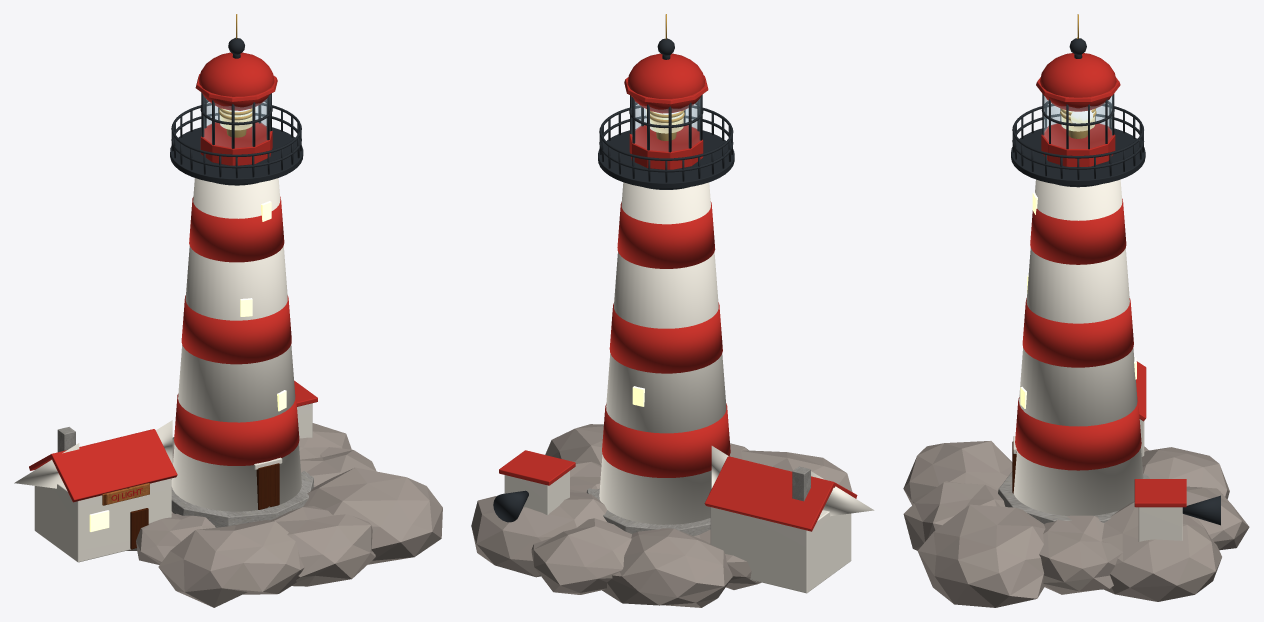
The model's file is lighthouse.glb.
The picture shows the model from 3 angles, left to right: view 1: azimuth 30°, elevation 25°; view 2: azimuth 150°, elevation 25°; view 3: azimuth 270°, elevation 25°; orthographic projection. The views are drawn at different scales.
Visible parts, largest first — view 1: lh_tower, lh_rocks.006, lh_rocks.008, lh_cottage, lh_roof, lh_band, lh_rocks.007, lh_band.001, lh_band.002, lh_gallery, lh_dome, lh_lantern_glass (+9 smaller); view 2: lh_tower, lh_cottage, lh_rocks.003, lh_band, lh_roof.001, lh_rocks.001, lh_rocks.002, lh_band.001, lh_band.002, lh_gallery, lh_dome, lh_lantern_glass (+14 smaller); view 3: lh_tower, lh_rocks.008, lh_rocks.001, lh_band, lh_rocks, lh_band.001, lh_rocks.006, lh_band.002, lh_gallery, lh_dome, lh_rocks.007, lh_rocks.003 (+11 smaller).
Boxes of the visible parts, x1,y1,x2,y2 form: lh_tower: (171,178,301,511); lh_rocks.006: (158,520,304,607); lh_rocks.008: (303,467,442,564); lh_cottage: (34,469,171,562); lh_roof: (51,429,177,502); lh_band: (174,393,299,465); lh_rocks.007: (270,506,375,586); lh_band.001: (181,295,291,364); lh_band.002: (189,196,284,262); lh_gallery: (170,127,303,184); lh_dome: (199,52,274,110); lh_lantern_glass: (203,95,270,147); lh_tower: (599,182,730,524); lh_cottage: (710,507,851,593); lh_rocks.003: (602,528,732,607); lh_band: (602,403,730,477); lh_roof.001: (704,457,834,531); lh_rocks.001: (471,489,606,577); lh_rocks.002: (531,518,631,594); lh_band.001: (609,302,722,373); lh_band.002: (617,201,715,268); lh_gallery: (598,129,734,188); lh_dome: (627,53,704,113); lh_lantern_glass: (631,97,700,151); lh_tower: (1013,179,1143,515); lh_rocks.008: (917,504,1045,607); lh_rocks.001: (1102,501,1221,601); lh_band: (1015,397,1141,470); lh_rocks: (1039,515,1122,594); lh_band.001: (1022,298,1133,367); lh_rocks.006: (903,441,1012,505); lh_band.002: (1030,198,1126,264); lh_gallery: (1011,128,1145,185); lh_dome: (1040,53,1116,111); lh_rocks.007: (903,481,1005,550); lh_rocks.003: (1142,447,1229,499).
Size of the model in its own units: 15.63 by 21.55 by 12.6.
13 materials, 3 textured.
